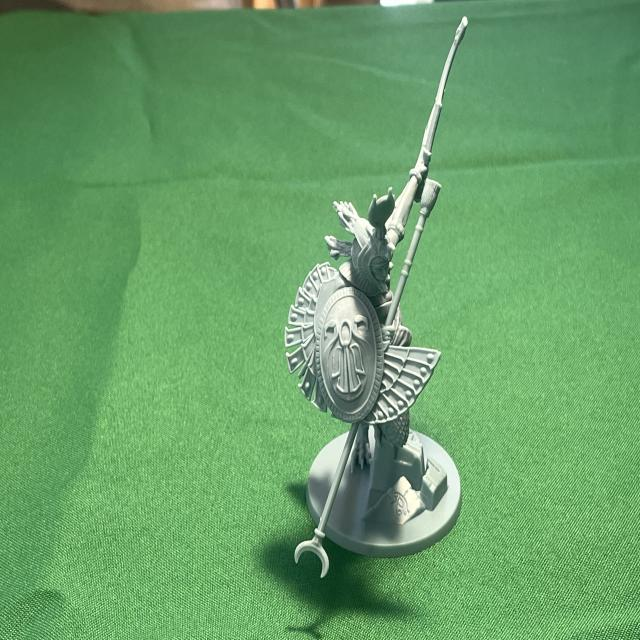isis: (277, 7, 488, 594)
